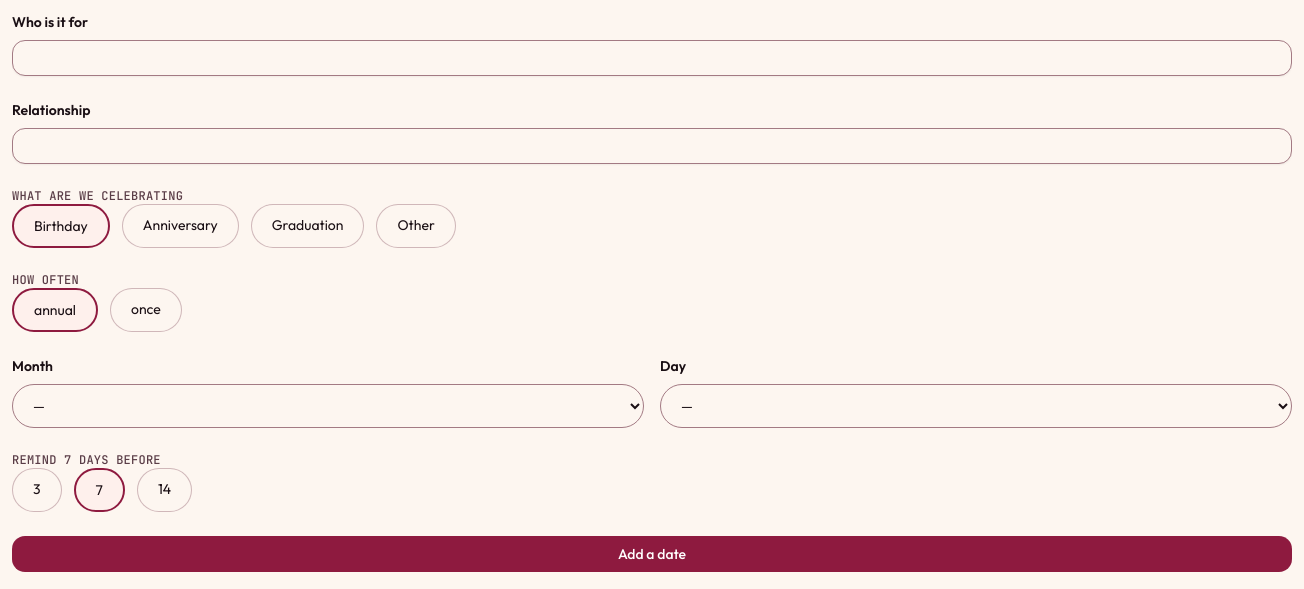
Test case: OccasionForm › swaps to a single date field when switching to one-off
This screenshot has width=1304, height=589.
Click the radio button labelled "once".
click(146, 310)  # box [110,288,182,332]
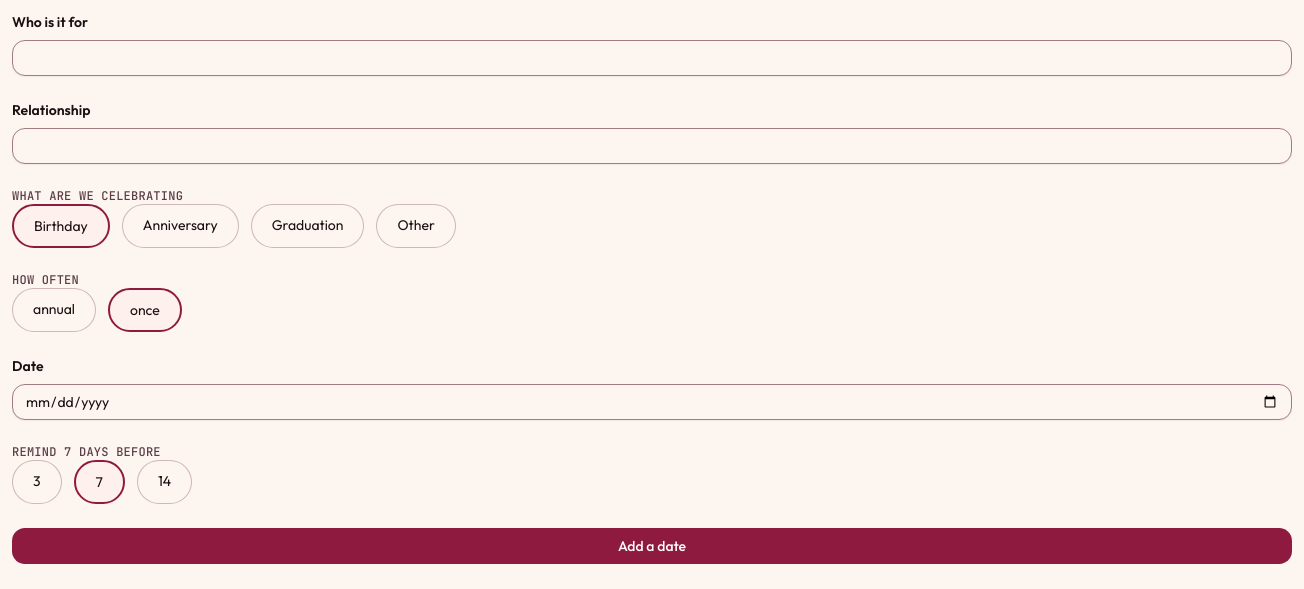
Now the date field labelled "Date" is shown, box [12,384,1292,420]
Now the text labelled "Month" is gone
